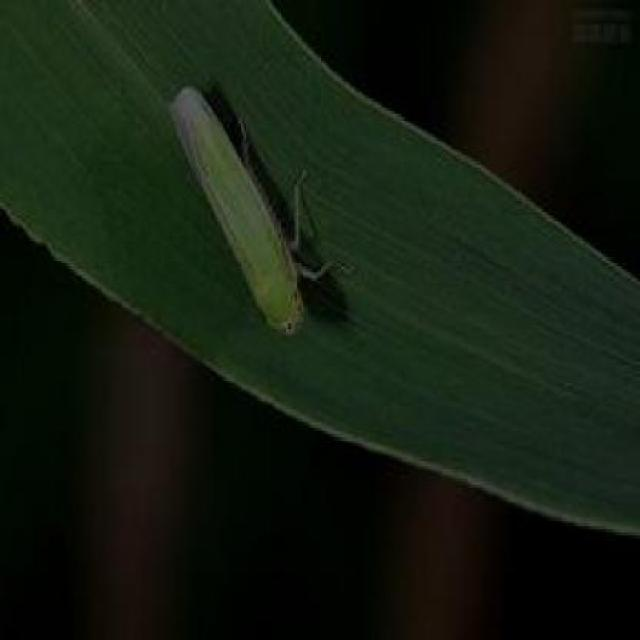green-leafhopper: (169, 77, 326, 337)
